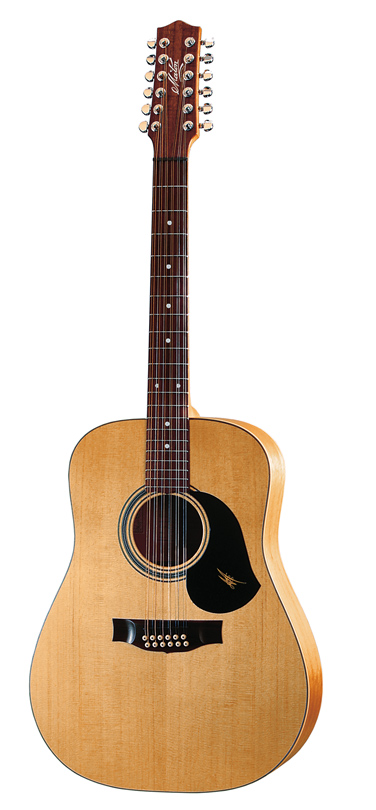guitar: (25, 19, 324, 797)
